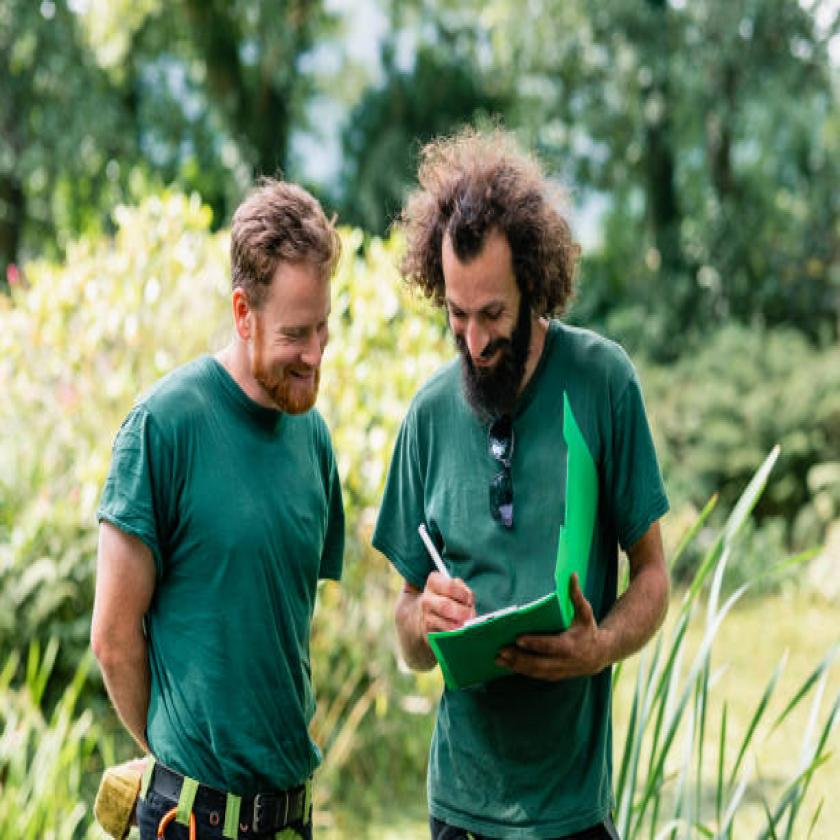Sin_casco: (410, 81, 588, 398), (205, 143, 366, 422)
